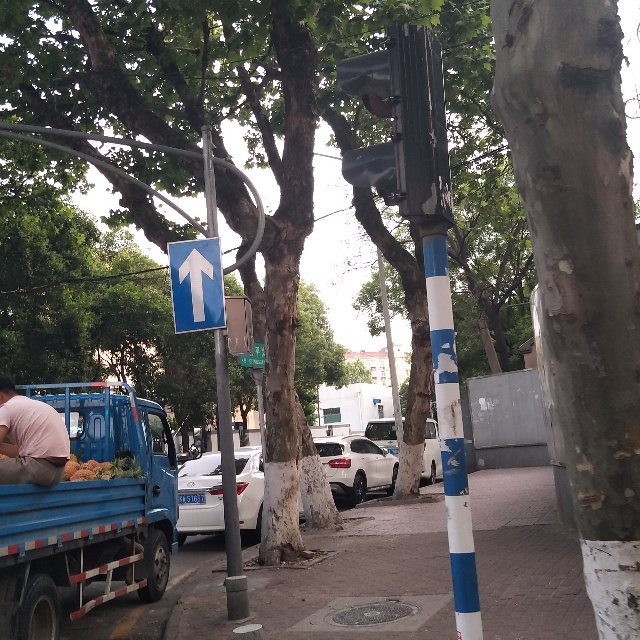straight: (174, 246, 224, 327)
